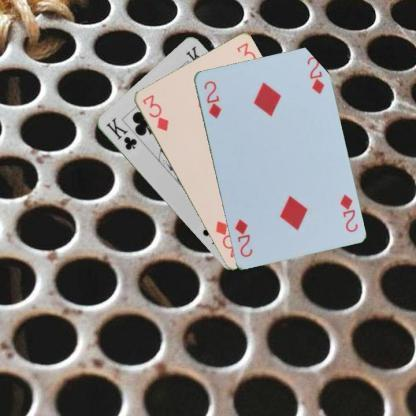2d: (337, 192, 359, 234), (201, 78, 222, 120)
3d: (139, 92, 170, 132)
Kc: (103, 114, 138, 152)
